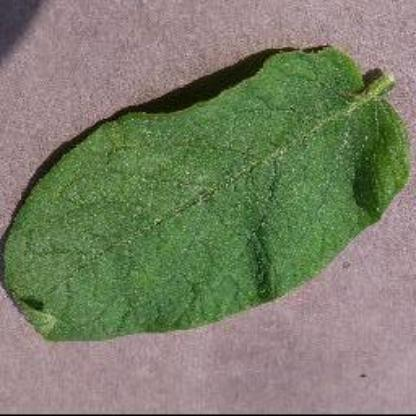Healthy-plant: (3, 44, 412, 342)
